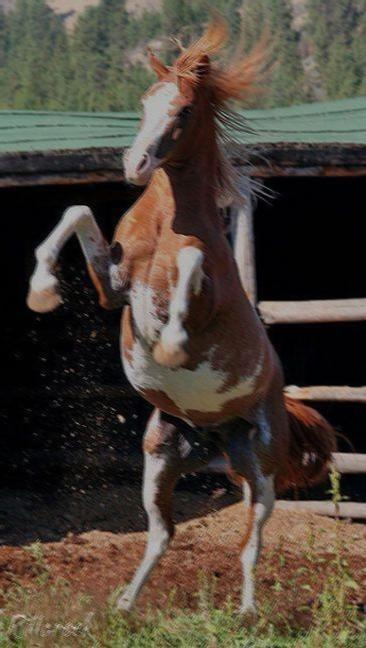horse: (25, 6, 342, 619)
